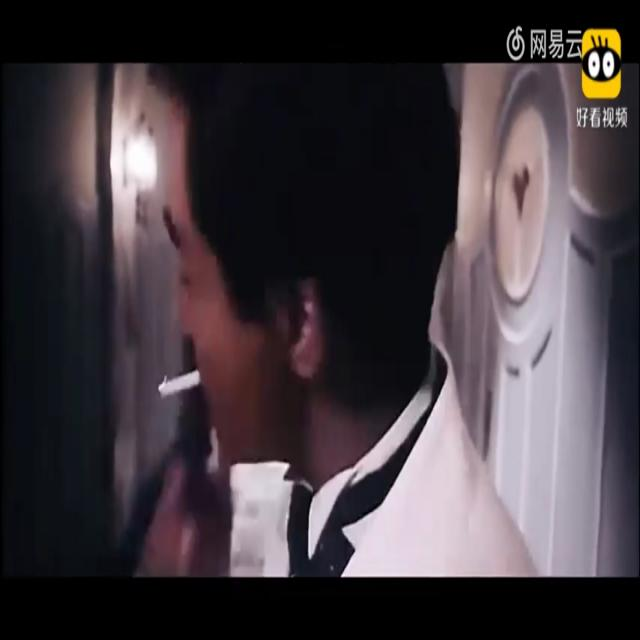smoke: (154, 367, 206, 418)
